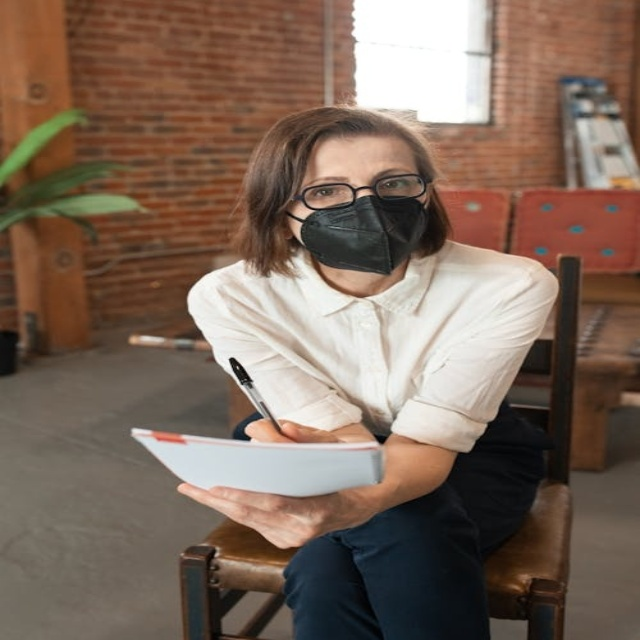Gafas: (288, 174, 429, 211)
Mascara: (294, 193, 428, 275)
Sin_guantes: (173, 478, 350, 550)
